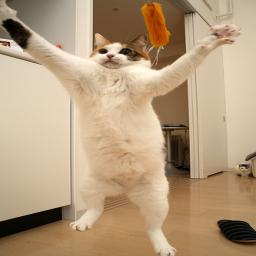catnose: (106, 54, 115, 59)
